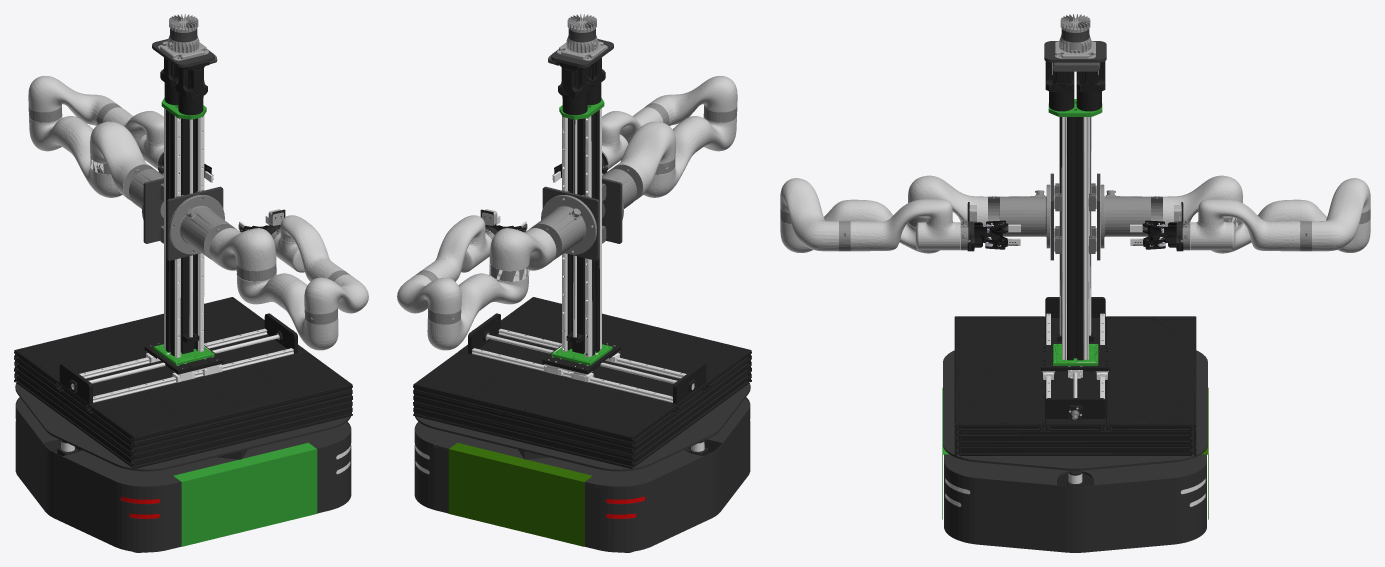
Rendered from mmp_ridgeback_dualxarm.glb.
3 views of the same model, side by side, from view 1: azimuth 30°, elevation 25°; view 2: azimuth 150°, elevation 25°; view 3: azimuth 270°, elevation 25° (orthographic).
Parts seen in each view (by area): view 1: node3_primitive0, mmp_ridgeback_primitive0, empty_6.002, mmp_ridgeback_primitive5, empty_5, node26_primitive0, node3_primitive20, xarm850_bracket_primitive0, node18, node26_primitive2, node3_primitive1, Cube; view 2: node3_primitive0, mmp_ridgeback_primitive0, empty_6.002, mmp_ridgeback_primitive2, empty_5, node26_primitive0, xarm850_bracket_primitive0, node3_primitive20, node18, node26_primitive2, node3_primitive1, Cube; view 3: node3_primitive0, mmp_ridgeback_primitive0, empty_6.002, empty_5, node26_primitive0, mmp_ridgeback.001_primitive2, node18, node26_primitive2, xarm850_bracket_primitive1.
Part boxes in pixels (x1,y1,x2,y2): node3_primitive0: [14, 57, 352, 468]; mmp_ridgeback_primitive0: [15, 383, 351, 552]; empty_6.002: [28, 76, 368, 350]; mmp_ridgeback_primitive5: [173, 442, 317, 546]; empty_5: [28, 103, 350, 324]; node26_primitive0: [146, 108, 222, 382]; node3_primitive20: [79, 328, 293, 402]; xarm850_bracket_primitive0: [143, 178, 223, 260]; node18: [158, 14, 208, 60]; node26_primitive2: [153, 98, 214, 365]; node3_primitive1: [71, 334, 278, 389]; Cube: [152, 39, 214, 67]; node3_primitive0: [413, 57, 751, 468]; mmp_ridgeback_primitive0: [414, 383, 750, 552]; empty_6.002: [397, 76, 737, 350]; mmp_ridgeback_primitive2: [448, 442, 592, 546]; empty_5: [415, 103, 737, 324]; node26_primitive0: [543, 108, 620, 382]; xarm850_bracket_primitive0: [542, 178, 622, 260]; node3_primitive20: [472, 329, 686, 402]; node18: [557, 14, 607, 60]; node26_primitive2: [551, 98, 612, 365]; node3_primitive1: [487, 334, 694, 389]; Cube: [551, 39, 613, 67]; node3_primitive0: [954, 61, 1196, 456]; mmp_ridgeback_primitive0: [943, 350, 1207, 552]; empty_6.002: [780, 175, 1370, 253]; empty_5: [780, 184, 1370, 251]; node26_primitive0: [1042, 117, 1108, 379]; mmp_ridgeback.001_primitive2: [970, 220, 1180, 249]; node18: [1055, 14, 1095, 58]; node26_primitive2: [1048, 99, 1102, 365]; xarm850_bracket_primitive1: [1054, 183, 1096, 253].
Size of the model in its own units: 93.25 by 156 by 176.
